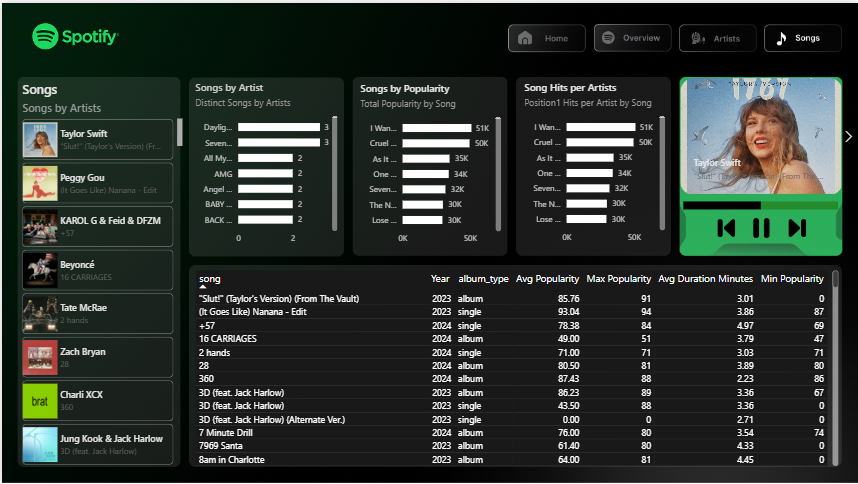

The page's visual inventory and layout, read from the dashboard file:
{"tool":"powerbi","page":{"name":"Songs","canvas":[1280,720],"ordinal":3},"visuals":[{"type":"actionButton","box":[757.4,30.9,116.2,45.6],"z":0},{"type":"actionButton","box":[885.3,30.9,116.2,45.6],"z":1000},{"type":"actionButton","box":[1011.8,30.9,116.2,45.6],"z":2000},{"type":"actionButton","box":[1138.2,30.9,116.2,45.6],"z":3000},{"type":"advancedSlicerVisual","title":"Songs","fields":{"Values":["Top-50-World.song"]},"box":[25,116.2,250,577.9],"z":4000},{"type":"hundredPercentStackedBarChart","fields":{"Y":["_Measures.Avg Popularity","Avg(Top-50-World.popularity)"]},"box":[1011.8,266.8,241.4,62.9],"z":5000},{"type":"image","box":[1061.8,321.1,40,30],"z":6000},{"type":"image","box":[1113.2,321.1,40,30],"z":7000},{"type":"image","box":[1167.5,321.1,40,30],"z":8000},{"type":"advancedSlicerVisual","title":"Songs","fields":{"Values":["Top-50-World.song"]},"box":[986.8,105.9,292.6,185.3],"z":9000},{"type":"shape","box":[1011.8,105.9,242.6,275],"z":10000},{"type":"clusteredBarChart","title":"Songs by Artist","fields":{"Category":["Top-50-World.song"],"Y":["_Measures.Distinct Artists"]},"box":[283.8,114.7,222.1,254.4],"z":11000},{"type":"tableEx","fields":{"Values":["Top-50-World.song","Top-50-World.release_date.Variation.Date Hierarchy.Year","Top-50-World.album_type","_Measures.Avg Popularity","_Measures.Max Popularity","_Measures.Avg Duration Minutes","_Measures.Min Popularity"]},"box":[283.3,393.3,970,301.7],"z":14000},{"type":"clusteredBarChart","title":"Songs by Popularity","fields":{"Category":["Top-50-World.song"],"Y":["Sum(Top-50-World.popularity)"]},"box":[530,116.7,220,253.3],"z":16000},{"type":"clusteredBarChart","title":"Song Hits per Artists","fields":{"Category":["Top-50-World.song"],"Y":["Sum(Top-50-World.popularity)"]},"box":[775,115,220,253.3],"z":17000}]}

Visuals, with their boxes in screenshot pixels (x1, y1, x2, y2), scaled from the page's 1280x720 canvas onto the 858x484 screenshot:
actionButton: (x1=508, y1=21, x2=586, y2=51)
actionButton: (x1=593, y1=21, x2=671, y2=51)
actionButton: (x1=678, y1=21, x2=756, y2=51)
actionButton: (x1=763, y1=21, x2=841, y2=51)
"Songs" advancedSlicerVisual: (x1=17, y1=78, x2=184, y2=467)
hundredPercentStackedBarChart - _Measures.Avg Popularity x Avg(Top-50-World.popularity): (x1=678, y1=179, x2=840, y2=222)
image: (x1=712, y1=216, x2=739, y2=236)
image: (x1=746, y1=216, x2=773, y2=236)
image: (x1=783, y1=216, x2=809, y2=236)
"Songs" advancedSlicerVisual: (x1=661, y1=71, x2=857, y2=196)
shape: (x1=678, y1=71, x2=841, y2=256)
"Songs by Artist" clusteredBarChart: (x1=190, y1=77, x2=339, y2=248)
tableEx - Top-50-World.song x Top-50-World.release_date.Variation.Date Hierarchy.Year: (x1=190, y1=264, x2=840, y2=467)
"Songs by Popularity" clusteredBarChart: (x1=355, y1=78, x2=503, y2=249)
"Song Hits per Artists" clusteredBarChart: (x1=519, y1=77, x2=667, y2=248)
